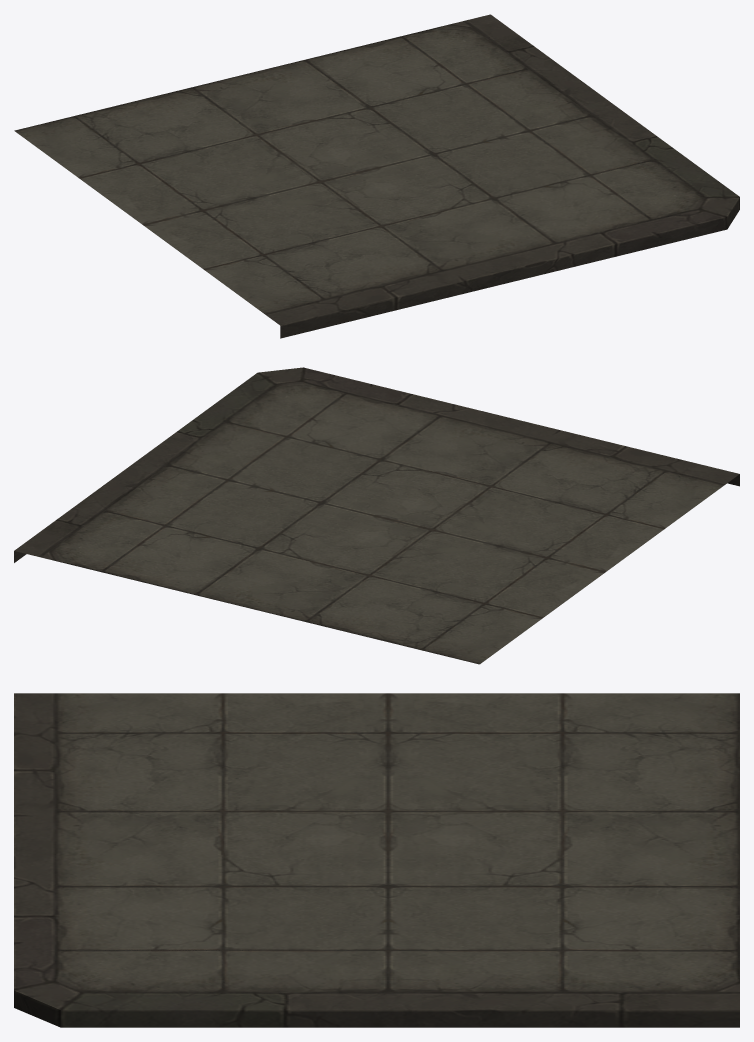
Rendered from Stage-gongchang-bianlu5.FBX.
The picture shows the model from 3 angles, top to bottom: view 1: azimuth 30°, elevation 25°; view 2: azimuth 150°, elevation 25°; view 3: azimuth 270°, elevation 25°; orthographic projection. The views are drawn at different scales.
Parts seen in each view (by area): view 1: Box504; view 2: Box504; view 3: Box504.
Part boxes in pixels (left/top/right/bottom): Box504: left=14, top=14, right=739, bottom=338; Box504: left=14, top=367, right=739, bottom=664; Box504: left=14, top=693, right=739, bottom=1027.
Size of the model in its own units: 11.22 by 10.86 by 0.2881.
